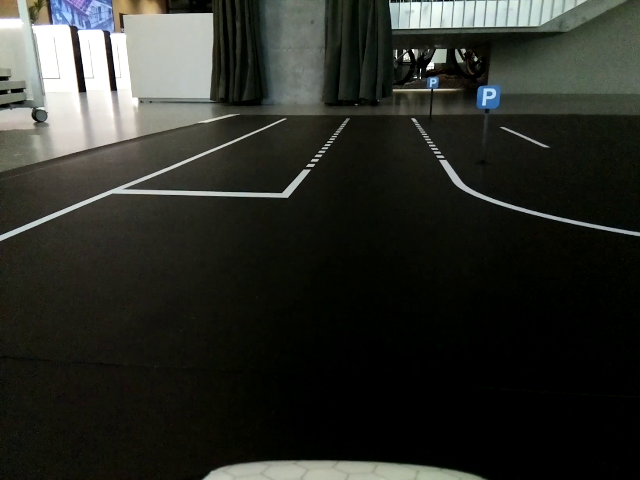park: (476, 86, 500, 109), (428, 77, 440, 88)
